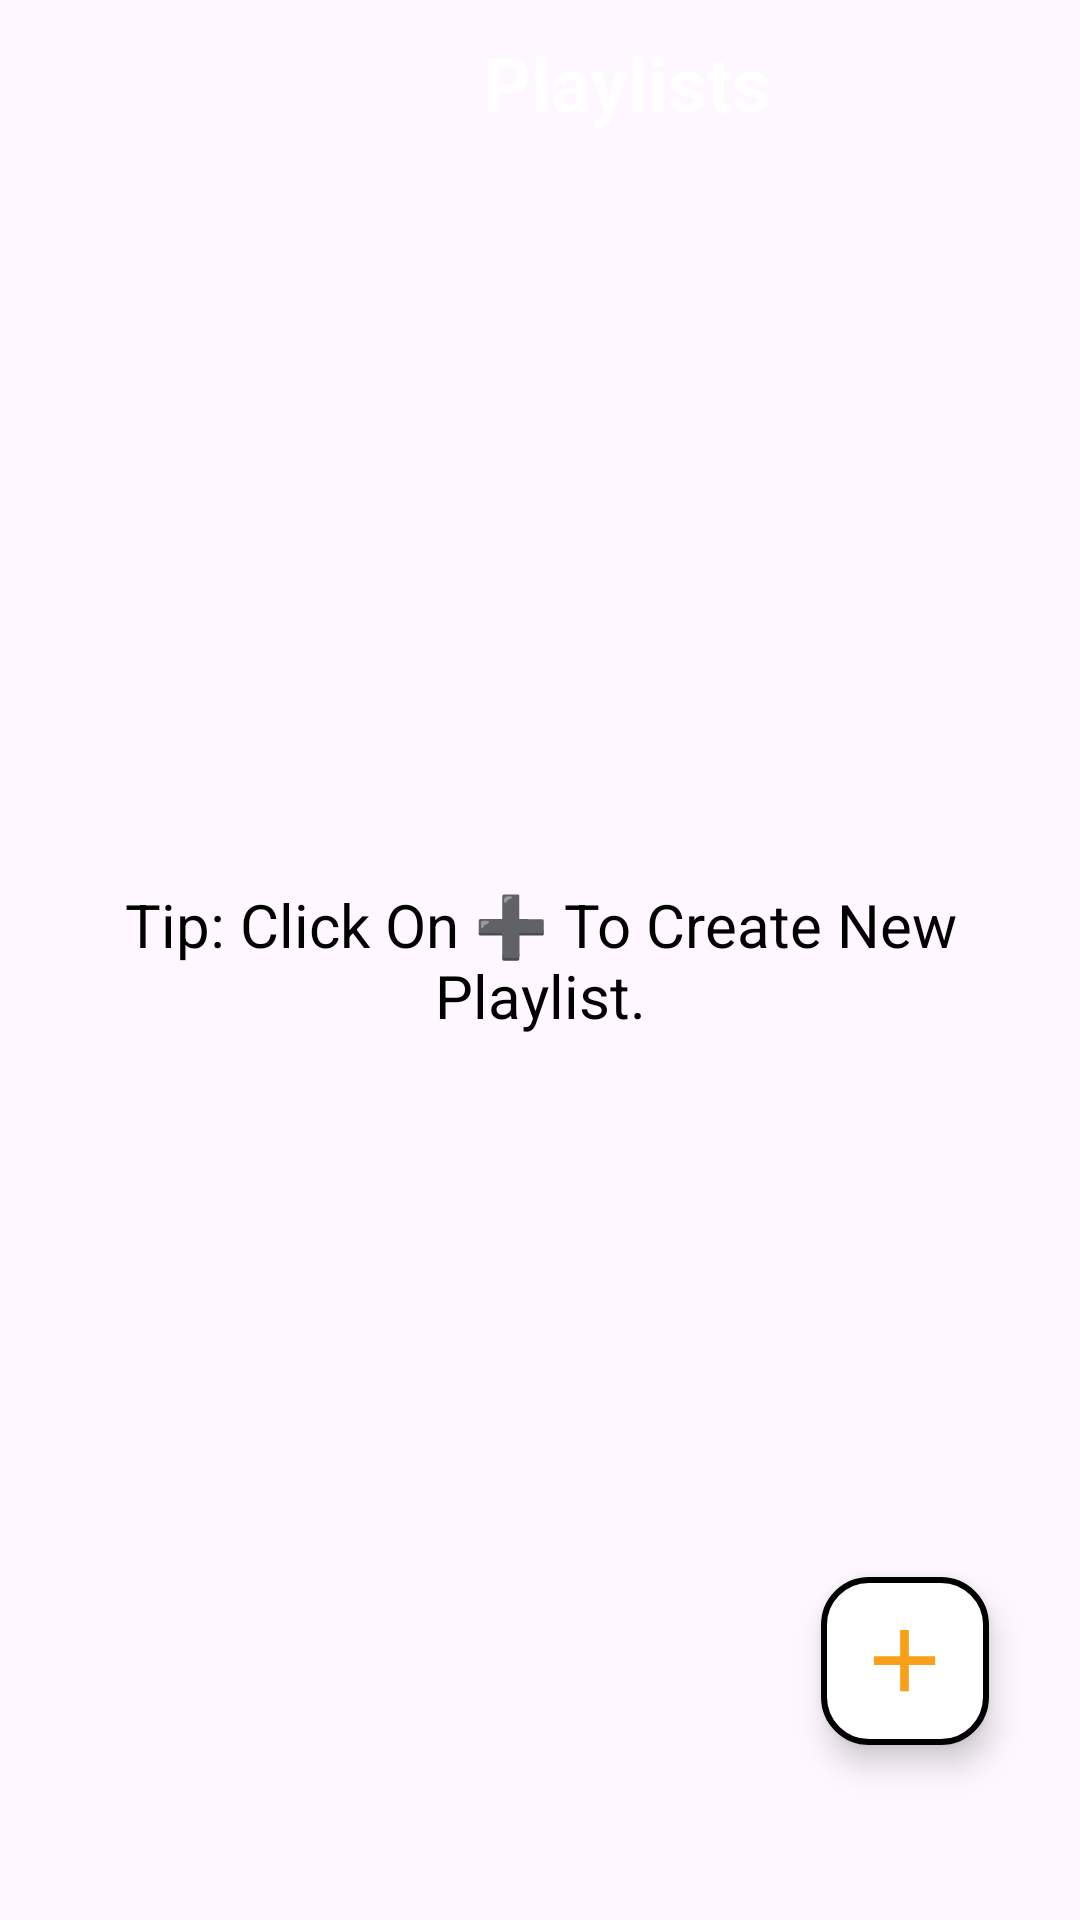

Where to tap for icons on this 1080x1920 app screen, as point (x, y):
add: point (905, 1661)
